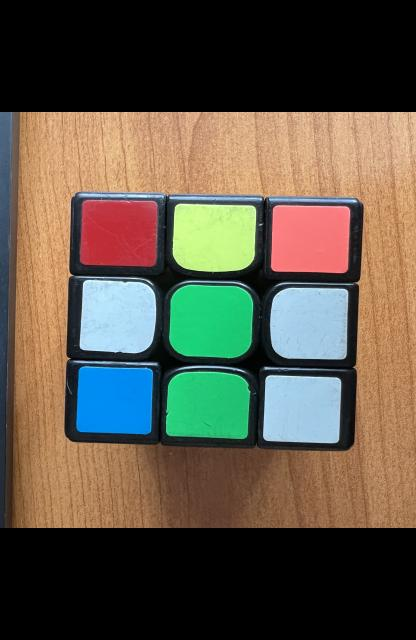Blue: (76, 367, 152, 435)
Green: (168, 284, 253, 358), (166, 372, 249, 439)
Orange: (270, 205, 349, 273)
Red: (79, 200, 157, 267)
White: (78, 280, 156, 354), (269, 288, 348, 360), (262, 375, 340, 444)
Yellow: (172, 204, 256, 272)
